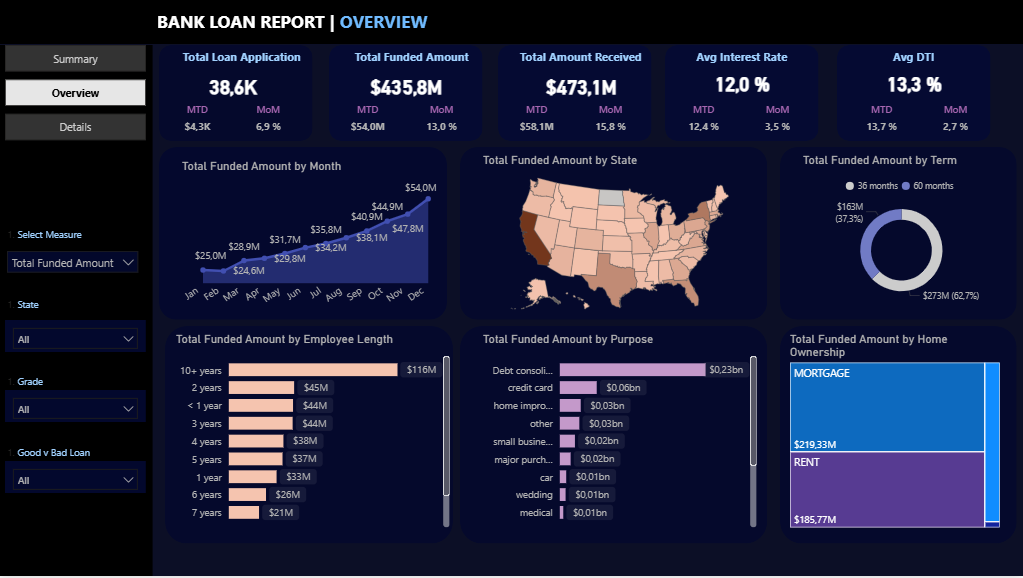

This screenshot's page, from the dashboard's own definition file:
{"tool":"powerbi","page":{"name":"Overview","canvas":[1280,720],"ordinal":1},"visuals":[{"type":"shape","box":[0,0,1280,55],"z":0},{"type":"shape","box":[200,56,192,120],"z":0,"group":"g2"},{"type":"shape","box":[412,56,192,120],"z":0,"group":"g1"},{"type":"shape","box":[624,56,192,120],"z":0,"group":"g4"},{"type":"shape","box":[832,56,192,120],"z":0,"group":"g3"},{"type":"shape","box":[1048,56,192,120],"z":0,"group":"g5"},{"type":"shape","box":[0,56,192,664],"z":1000},{"type":"textbox","box":[192,8,448,48],"z":2000},{"type":"shape","box":[200,184,360,216],"z":3000},{"type":"group","id":"g1","title":"Group 1","box":[412,56,200,120],"z":4000},{"type":"card","fields":{"Values":["financial.Total Loan Applications"]},"box":[232,80,120,56],"z":4000,"group":"g2"},{"type":"card","fields":{"Values":["financial.Total Funded Amount"]},"box":[444,80,128,56],"z":4000,"group":"g1"},{"type":"card","fields":{"Values":["financial.Total Amount Received"]},"box":[664,80,128,56],"z":4000,"group":"g4"},{"type":"card","fields":{"Values":["financial.Avg Interest Rate"]},"box":[864,80,128,48],"z":4000,"group":"g3"},{"type":"card","fields":{"Values":["financial.Avg DTI"]},"box":[1080,80,128,48],"z":4000,"group":"g5"},{"type":"group","id":"g2","title":"Group 1","box":[200,56,200,120],"z":5000},{"type":"textbox","box":[208,56,192,32],"z":5000,"group":"g2"},{"type":"textbox","box":[420,56,192,32],"z":5000,"group":"g1"},{"type":"textbox","box":[632,56,192,32],"z":5000,"group":"g4"},{"type":"textbox","box":[832,56,192,32],"z":5000,"group":"g3"},{"type":"textbox","box":[1048,56,192,32],"z":5000,"group":"g5"},{"type":"group","id":"g3","title":"Group 1","box":[832,56,192,120],"z":6000},{"type":"card","title":"MTD","fields":{"Values":["financial.MTD Loan Applications"]},"box":[224,128,48,48],"z":6000,"group":"g2"},{"type":"card","title":"MTD","fields":{"Values":["financial.MTD Funded Amount"]},"box":[428,128,64,48],"z":6000,"group":"g1"},{"type":"card","title":"MTD","fields":{"Values":["financial.MTD Total Amount Received"]},"box":[640,128,64,48],"z":6000,"group":"g4"},{"type":"card","title":"MTD","fields":{"Values":["financial.MTD Avg Int Rate"]},"box":[848,128,64,48],"z":6000,"group":"g3"},{"type":"card","title":"MTD","fields":{"Values":["financial.MTD Avg DTI"]},"box":[1072,128,64,48],"z":6000,"group":"g5"},{"type":"group","id":"g4","title":"Group 1","box":[624,56,200,120],"z":7000},{"type":"card","title":"MoM","fields":{"Values":["financial.MoM Loan Aplications"]},"box":[312,128,48,48],"z":7000,"group":"g2"},{"type":"card","title":"MoM","fields":{"Values":["financial.MoM Funded Amount"]},"box":[524,128,56,48],"z":7000,"group":"g1"},{"type":"card","title":"MoM","fields":{"Values":["financial.MoM Amount Received"]},"box":[736,128,56,48],"z":7000,"group":"g4"},{"type":"card","title":"MoM","fields":{"Values":["financial.MoM Avg Int Rate"]},"box":[944,128,56,48],"z":7000,"group":"g3"},{"type":"card","title":"MoM","fields":{"Values":["financial.MoM Avg DTI"]},"box":[1168,128,56,48],"z":7000,"group":"g5"},{"type":"group","id":"g5","title":"Group 1","box":[1048,56,192,120],"z":8000},{"type":"slicer","fields":{"Values":["financial.address_state"]},"box":[8,400,176,40],"z":9000},{"type":"textbox","box":[0,368,168,32],"z":10000},{"type":"slicer","fields":{"Values":["financial.grade"]},"box":[8,488,176,40],"z":11000},{"type":"textbox","box":[0,464,168,32],"z":12000},{"type":"textbox","box":[0,552,168,32],"z":13000},{"type":"slicer","fields":{"Values":["financial.Good Bad Loans"]},"box":[8,576,176,40],"z":14000},{"type":"areaChart","fields":{"Y":["financial.Total Funded Amount"],"Category":["Date Table.Month"]},"box":[224,200,328,200],"z":15000},{"type":"slicer","fields":{"Values":["Select Measure.Select Measure"]},"box":[0,304,184,48],"z":16000},{"type":"textbox","box":[0,280,168,40],"z":17000},{"type":"shape","box":[576,184,384,216],"z":18000},{"type":"shapeMap","fields":{"Value":["financial.Total Funded Amount"],"Category":["financial.address_state"]},"box":[600,192,352,208],"z":19000},{"type":"shape","box":[976,184,296,216],"z":20000},{"type":"donutChart","fields":{"Y":["financial.Total Funded Amount"],"Category":["financial.term"]},"box":[1000,192,256,192],"z":21000},{"type":"shape","box":[208,408,360,272],"z":22000},{"type":"barChart","fields":{"Y":["financial.Total Funded Amount"],"Category":["financial.emp_length"]},"box":[216,416,352,248],"z":23000},{"type":"shape","box":[576,408,384,272],"z":24000},{"type":"barChart","fields":{"Y":["financial.Total Funded Amount"],"Category":["financial.purpose"]},"box":[600,416,352,248],"z":25000},{"type":"shape","box":[976,408,296,272],"z":26000},{"type":"treemap","fields":{"Values":["financial.Total Funded Amount"],"Group":["financial.home_ownership"]},"box":[984,416,272,248],"z":27000},{"type":"pageNavigator","box":[8,56,176,120],"z":28000}]}

Visuals, with their boxes in screenshot pixels (x1, y1, x2, y2), scaled from the page's 1280x720 canvas onto the 1023x578 screenshot:
shape: crop(0, 0, 1022, 44)
shape: crop(160, 45, 313, 141)
shape: crop(329, 45, 483, 141)
shape: crop(499, 45, 652, 141)
shape: crop(665, 45, 818, 141)
shape: crop(838, 45, 991, 141)
shape: crop(0, 45, 153, 577)
textbox: crop(153, 6, 512, 45)
shape: crop(160, 148, 448, 321)
"Group 1" group: crop(329, 45, 489, 141)
card - financial.Total Loan Applications: crop(185, 64, 281, 109)
card - financial.Total Funded Amount: crop(355, 64, 457, 109)
card - financial.Total Amount Received: crop(531, 64, 633, 109)
card - financial.Avg Interest Rate: crop(691, 64, 793, 103)
card - financial.Avg DTI: crop(863, 64, 965, 103)
"Group 1" group: crop(160, 45, 320, 141)
textbox: crop(166, 45, 320, 71)
textbox: crop(336, 45, 489, 71)
textbox: crop(505, 45, 659, 71)
textbox: crop(665, 45, 818, 71)
textbox: crop(838, 45, 991, 71)
"Group 1" group: crop(665, 45, 818, 141)
"MTD" card: crop(179, 103, 217, 141)
"MTD" card: crop(342, 103, 393, 141)
"MTD" card: crop(512, 103, 563, 141)
"MTD" card: crop(678, 103, 729, 141)
"MTD" card: crop(857, 103, 908, 141)
"Group 1" group: crop(499, 45, 659, 141)
"MoM" card: crop(249, 103, 288, 141)
"MoM" card: crop(419, 103, 464, 141)
"MoM" card: crop(588, 103, 633, 141)
"MoM" card: crop(754, 103, 799, 141)
"MoM" card: crop(933, 103, 978, 141)
"Group 1" group: crop(838, 45, 991, 141)
slicer - financial.address_state: crop(6, 321, 147, 353)
textbox: crop(0, 295, 134, 321)
slicer - financial.grade: crop(6, 392, 147, 424)
textbox: crop(0, 372, 134, 398)
textbox: crop(0, 443, 134, 469)
slicer - financial.Good Bad Loans: crop(6, 462, 147, 495)
areaChart - financial.Total Funded Amount x Date Table.Month: crop(179, 161, 441, 321)
slicer - Select Measure.Select Measure: crop(0, 244, 147, 283)
textbox: crop(0, 225, 134, 257)
shape: crop(460, 148, 767, 321)
shapeMap - financial.Total Funded Amount x financial.address_state: crop(480, 154, 761, 321)
shape: crop(780, 148, 1017, 321)
donutChart - financial.Total Funded Amount x financial.term: crop(799, 154, 1004, 308)
shape: crop(166, 328, 454, 546)
barChart - financial.Total Funded Amount x financial.emp_length: crop(173, 334, 454, 533)
shape: crop(460, 328, 767, 546)
barChart - financial.Total Funded Amount x financial.purpose: crop(480, 334, 761, 533)
shape: crop(780, 328, 1017, 546)
treemap - financial.Total Funded Amount x financial.home_ownership: crop(786, 334, 1004, 533)
pageNavigator: crop(6, 45, 147, 141)
